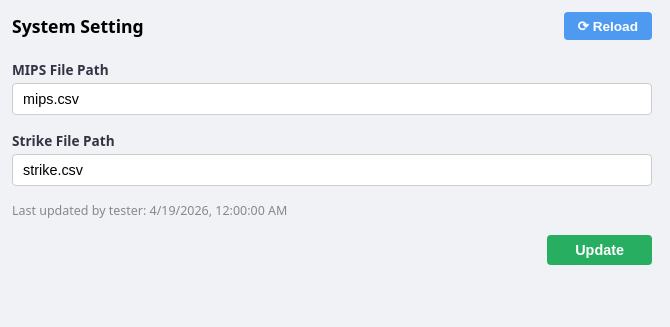
pages smoke › renders system setting and can save
Replace the text in the field with placeholder "e.g. C:\\data\\mips\\input.csv" below "MIPS File Path" with "next.csv". click: (332, 99)
box: [12,83,652,115]
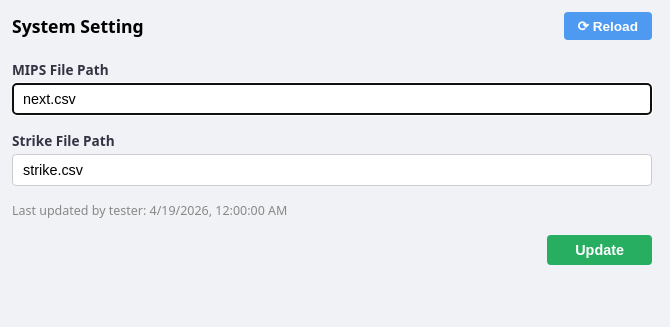
Click the button "Update". click: click(600, 250)
box: [547,235,652,265]
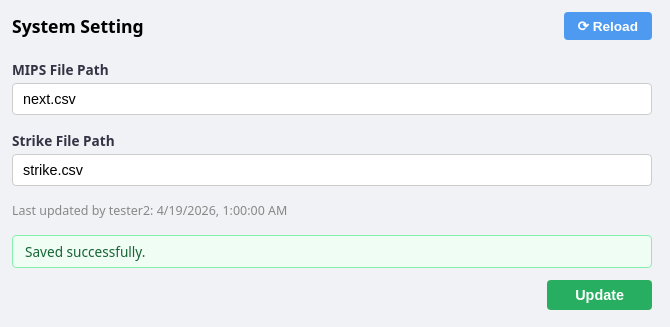
Expected: the button "Update" is enabled, [547,280,652,310]
Now the text "Saved successfully." is shown, box [12,235,652,268]
